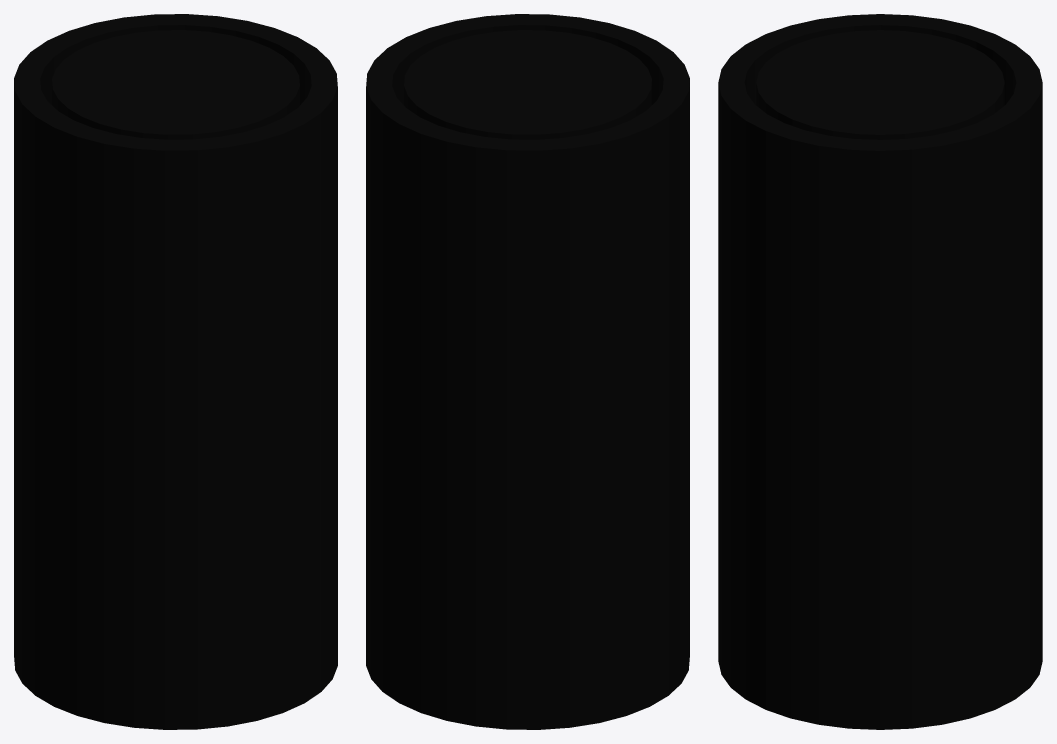
File: Single Key.fbx
The picture shows the model from 3 angles, left to right: view 1: azimuth 30°, elevation 25°; view 2: azimuth 150°, elevation 25°; view 3: azimuth 270°, elevation 25°; orthographic projection.
Visible parts, largest first — view 1: KeyPad; view 2: KeyPad; view 3: KeyPad.
Boxes of the visible parts, bbox=[...] form: KeyPad: bbox=[14, 14, 337, 729]; KeyPad: bbox=[366, 14, 689, 729]; KeyPad: bbox=[718, 14, 1042, 729].
Size of the model in its own units: 10.2 by 20.09 by 10.2.
2 materials, 1 textured.
